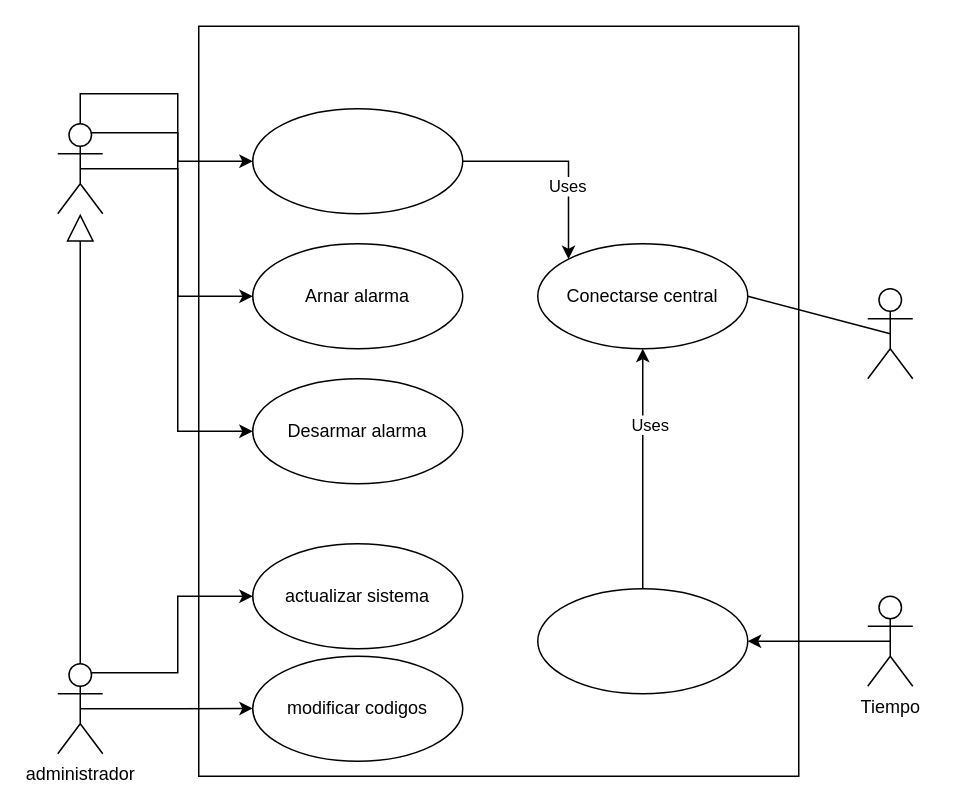
Image size: 980x812. Some labels were removed from this diagram. The shapes that lost their labels are listed below. From the top down, each one's centre as x and y in pixels, then its label:
(x=79, y=168): Estandar
(x=357, y=160): activar alarma silenciosa
(x=889, y=333): servidor Central
(x=642, y=640): Verificar sensores
